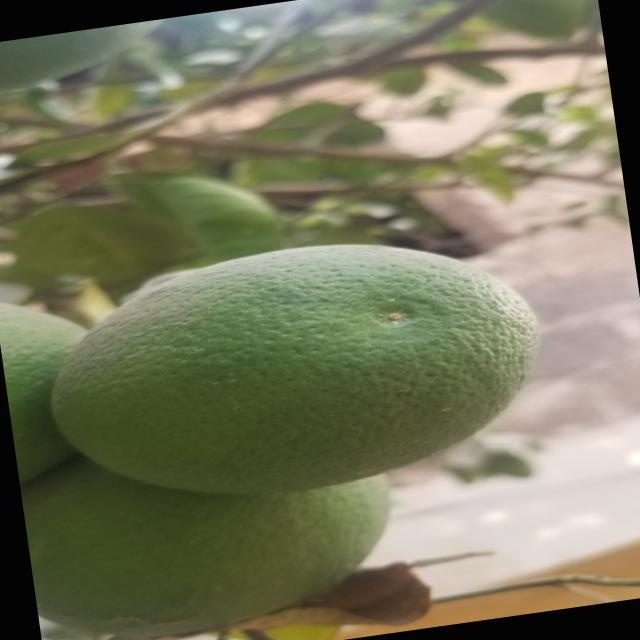agrume: (42, 221, 550, 523), (24, 436, 409, 640), (0, 284, 111, 484)
